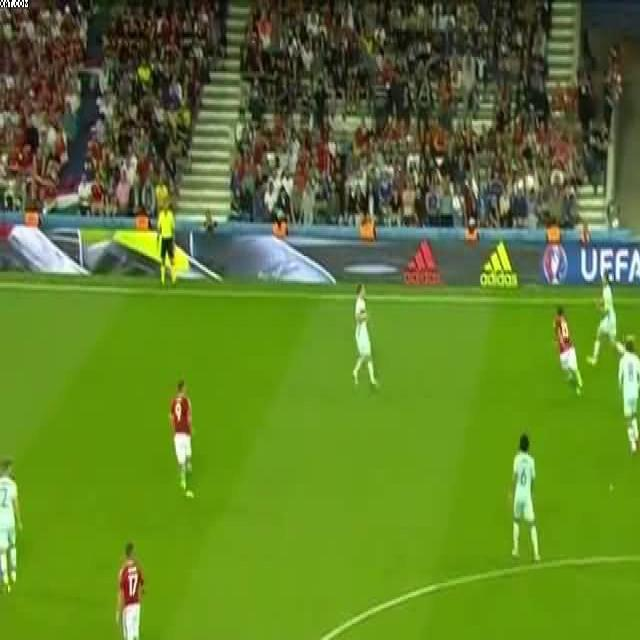player-white: (510, 432, 540, 562), (588, 276, 626, 364), (115, 540, 145, 640), (0, 459, 22, 594), (169, 381, 193, 501), (352, 284, 378, 388), (552, 304, 582, 394), (620, 334, 640, 452), (156, 196, 176, 284)
